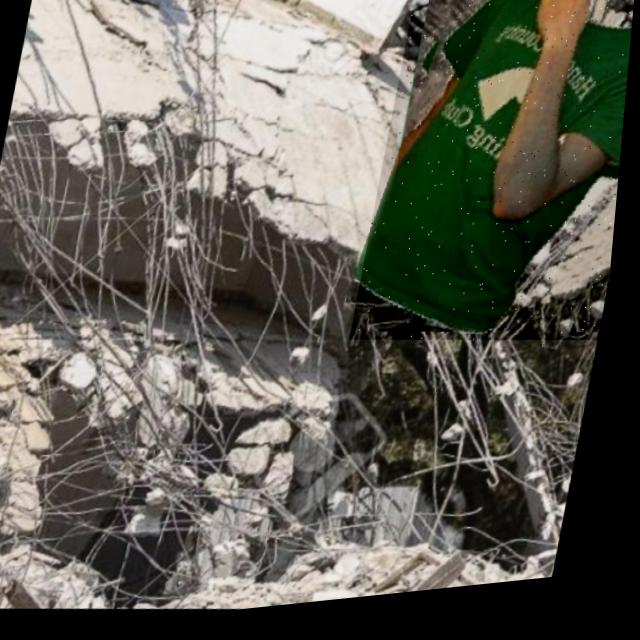Person in Rubble: (354, 0, 639, 374)
